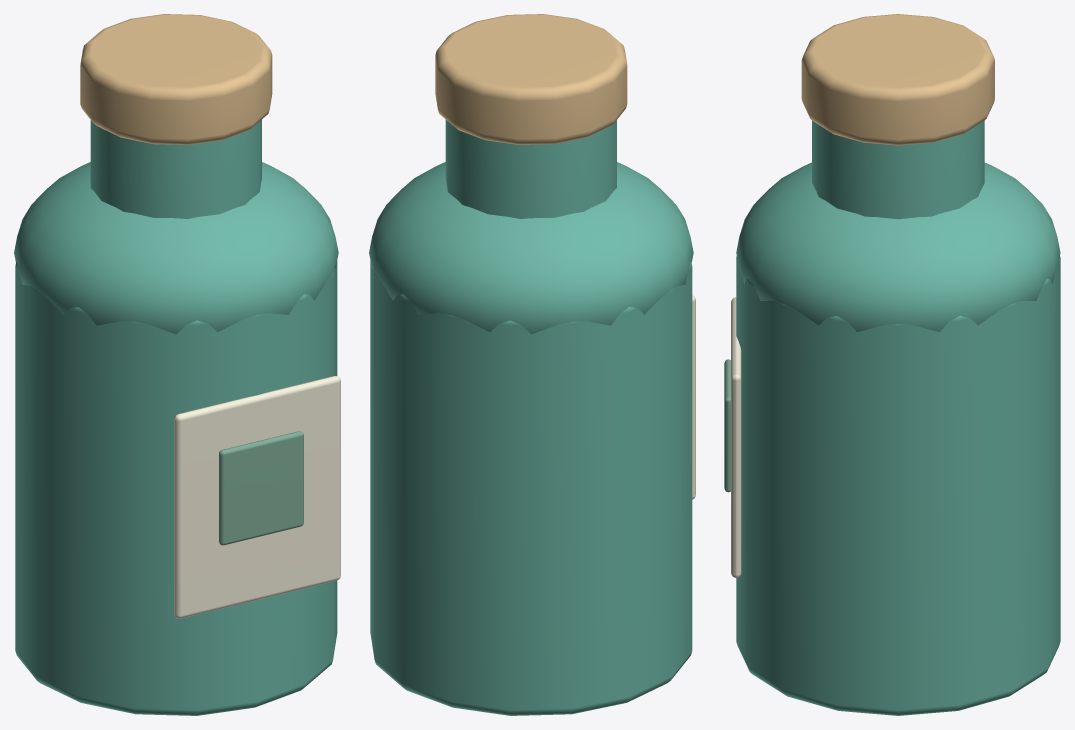
Rendered from premium-drink.glb.
3 renders of one model, left to right at view 1: azimuth 30°, elevation 25°; view 2: azimuth 150°, elevation 25°; view 3: azimuth 270°, elevation 25°, orthographic.
Visible parts, largest first — view 1: bottle.body, bottle.shoulder, bottle.label, bottle.cap, bottle.neck, bottle.mark; view 2: bottle.body, bottle.shoulder, bottle.cap, bottle.neck, bottle.label; view 3: bottle.body, bottle.shoulder, bottle.cap, bottle.neck, bottle.label, bottle.mark.
Boxes of the visible parts, bbox=[...] form: bottle.body: bbox=[15, 261, 337, 715]; bottle.shoulder: bbox=[14, 162, 338, 334]; bottle.label: bbox=[174, 376, 340, 618]; bottle.cap: bbox=[80, 14, 272, 144]; bottle.neck: bbox=[90, 119, 261, 218]; bottle.mark: bbox=[219, 431, 303, 545]; bottle.body: bbox=[370, 261, 692, 715]; bottle.shoulder: bbox=[369, 162, 693, 334]; bottle.cap: bbox=[435, 14, 627, 144]; bottle.neck: bbox=[445, 119, 616, 218]; bottle.label: bbox=[692, 295, 695, 499]; bottle.body: bbox=[736, 256, 1060, 715]; bottle.shoulder: bbox=[736, 162, 1060, 332]; bottle.cap: bbox=[801, 14, 994, 145]; bottle.neck: bbox=[812, 120, 984, 219]; bottle.label: bbox=[731, 297, 741, 577]; bottle.mark: bbox=[724, 359, 730, 492].
Bounding box in the file's own units: 0.124 × 0.253 × 0.1285.
